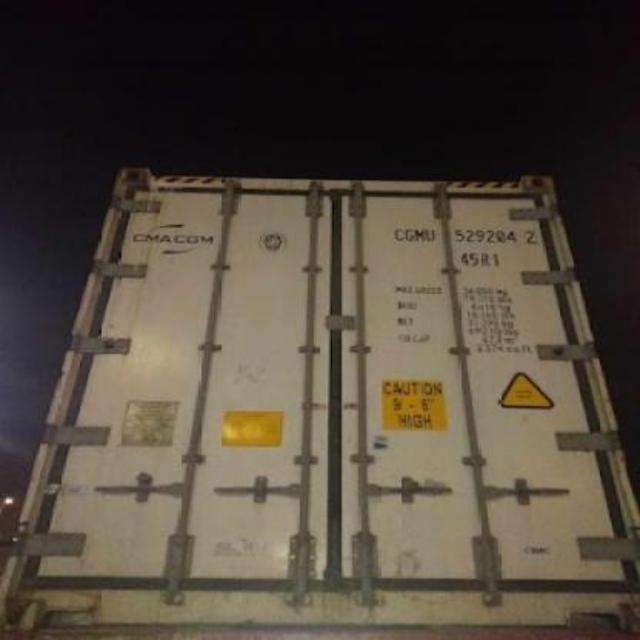0: (494, 222, 506, 248)
2: (522, 224, 540, 246), (464, 224, 474, 246), (486, 225, 494, 248)
4: (506, 223, 520, 247)
5: (452, 222, 464, 246)
9: (474, 226, 484, 244)
C: (392, 222, 404, 244)
G: (404, 222, 414, 246)
M: (414, 224, 424, 246)
U: (424, 220, 436, 243)
